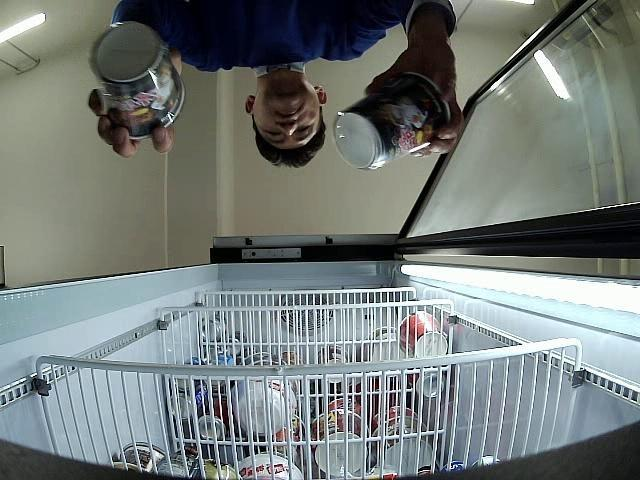08_buldak_S: (88, 22, 186, 141), (334, 71, 450, 169)
